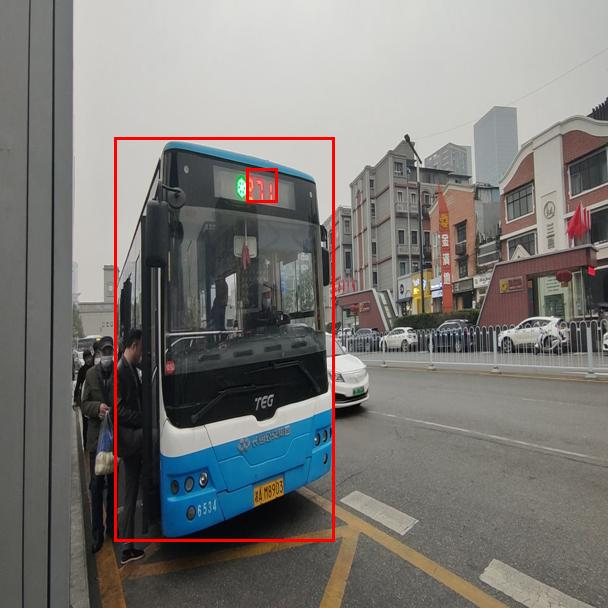bus: (114, 137, 334, 541)
screen: (246, 168, 277, 202)
